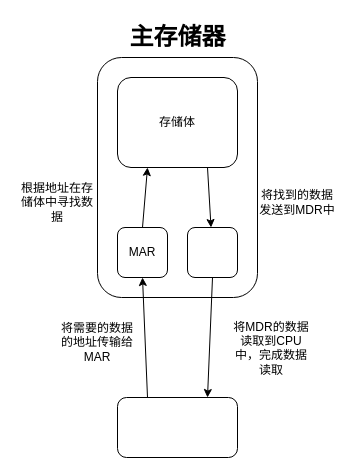
This 354x475 diagram has some shape labels left out. Here are the shapes that lost their labels. From the top down, the centre of each, then its label:
At pixel 212 252: "MDR".
At pixel 177 427: "CPU".
